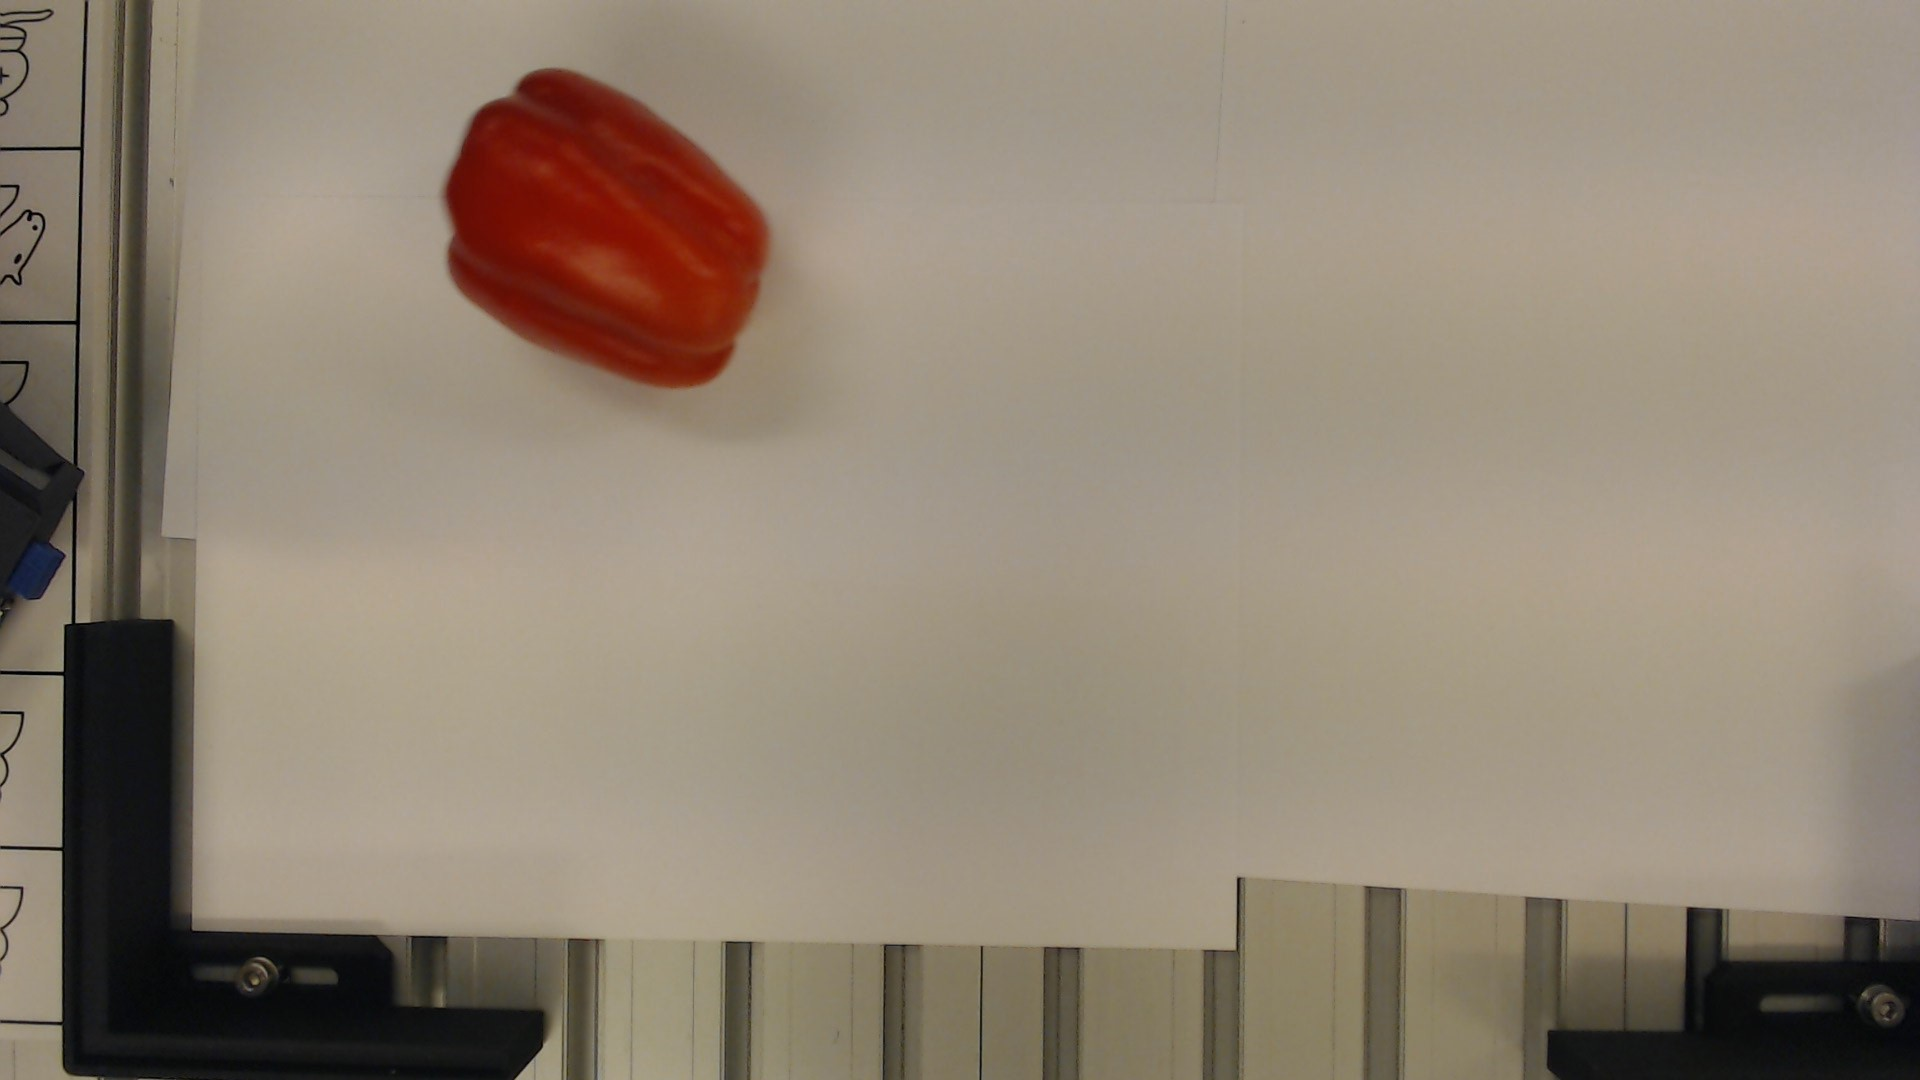Red Bell Pepper: (439, 58, 775, 392)
